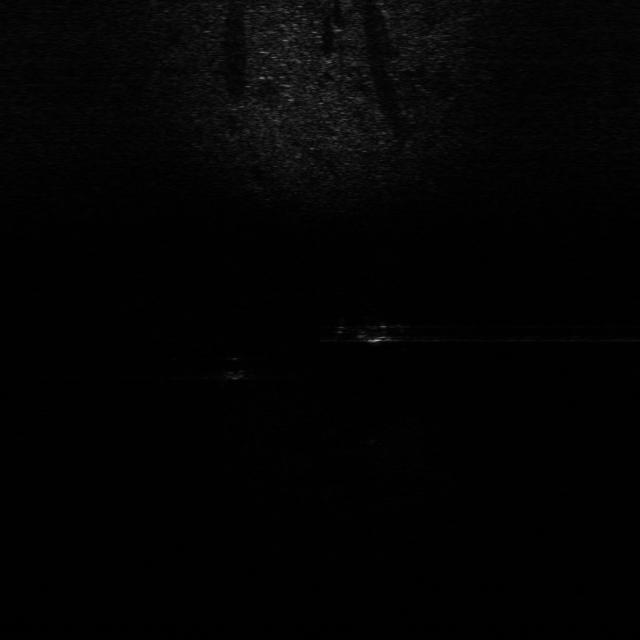ball: (222, 354, 250, 380)
human body: (326, 311, 413, 348)
